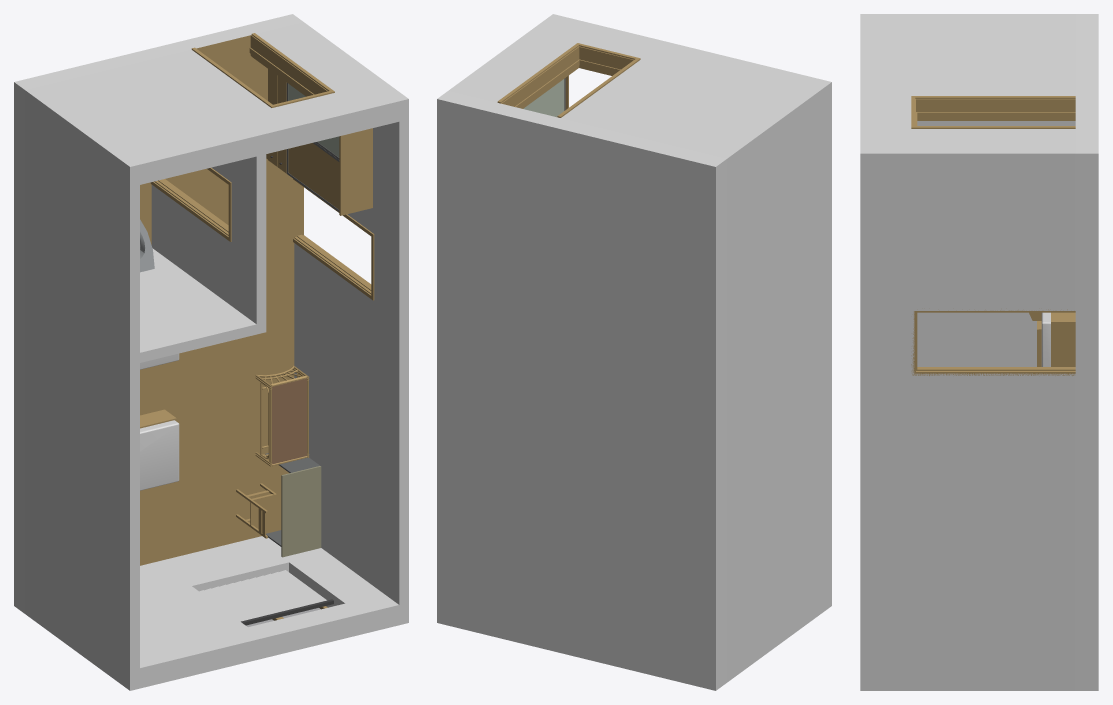
Rendered from hotl-rm4.fbx.
The picture shows the model from 3 angles, left to right: view 1: azimuth 30°, elevation 25°; view 2: azimuth 150°, elevation 25°; view 3: azimuth 270°, elevation 25°; orthographic projection. The views are drawn at different scales.
Visible parts, largest first — view 1: 93:1:1, 77:1:1, 57:1:8, 111:1:1, 121:1:1, 95:1:1, 57:1:8_2, 96:1:1, 62:2:6, 48:2:6_2, 68:17:6, 47:6:6 (+6 smaller); view 2: 57:1:8_2, 93:1:1, 111:1:1, 121:1:1, 110:1:5, 47:21:6; view 3: 77:1:1, 111:1:1, 57:1:8_2, 93:1:1, 121:1:1, 110:1:5, 51:1:6, 110:8:5, 76:1:5, 95:1:1, 76:9:5, 110:3:5 (+3 smaller).
Part boxes in pixels (x1,y1,x2,y2): 93:1:1: (25,88,139,670); 77:1:1: (294,119,408,604); 57:1:8: (140,35,303,565); 111:1:1: (35,22,408,184); 121:1:1: (25,536,408,690); 95:1:1: (151,154,266,331); 57:1:8_2: (14,14,303,613); 96:1:1: (140,248,265,362); 62:2:6: (199,570,326,621); 48:2:6_2: (281,466,321,557); 68:17:6: (272,378,306,464); 47:6:6: (339,128,372,215); 57:1:8_2: (437,91,726,690); 93:1:1: (717,79,831,661); 111:1:1: (448,14,821,156); 121:1:1: (727,586,831,682); 110:1:5: (501,46,633,106); 47:21:6: (523,79,564,116); 77:1:1: (860,174,1075,669); 111:1:1: (860,19,1075,174); 57:1:8_2: (1075,14,1098,690); 93:1:1: (860,14,1075,366); 121:1:1: (860,670,1075,690); 110:1:5: (915,99,1075,125); 51:1:6: (1029,312,1075,366); 110:8:5: (917,112,1075,120); 76:1:5: (914,311,1075,373); 95:1:1: (917,121,1075,125); 76:9:5: (917,367,1075,370); 110:3:5: (911,126,1075,128).
Bounding box in the file's own units: 4.3 × 7.74 × 3.1.
